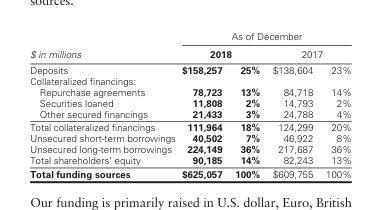table: (29, 29, 350, 179)
table column: (29, 29, 178, 179), (265, 29, 318, 179), (178, 29, 227, 179), (227, 29, 265, 179), (318, 29, 350, 179)
table column header: (29, 29, 350, 75)
table projected row header: (29, 75, 350, 86)
table row: (29, 44, 350, 61), (29, 29, 350, 44), (29, 61, 350, 75), (29, 107, 350, 120), (29, 166, 350, 179), (29, 120, 350, 132), (29, 154, 350, 166), (29, 75, 350, 86), (29, 86, 350, 97), (29, 132, 350, 143), (29, 143, 350, 154), (29, 97, 350, 107)
table spanning cell: (29, 29, 178, 75), (178, 29, 350, 44), (178, 44, 265, 61), (265, 44, 350, 61)
